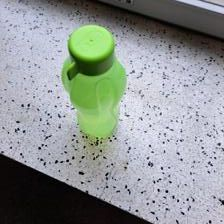bottle: (61, 25, 130, 139)
